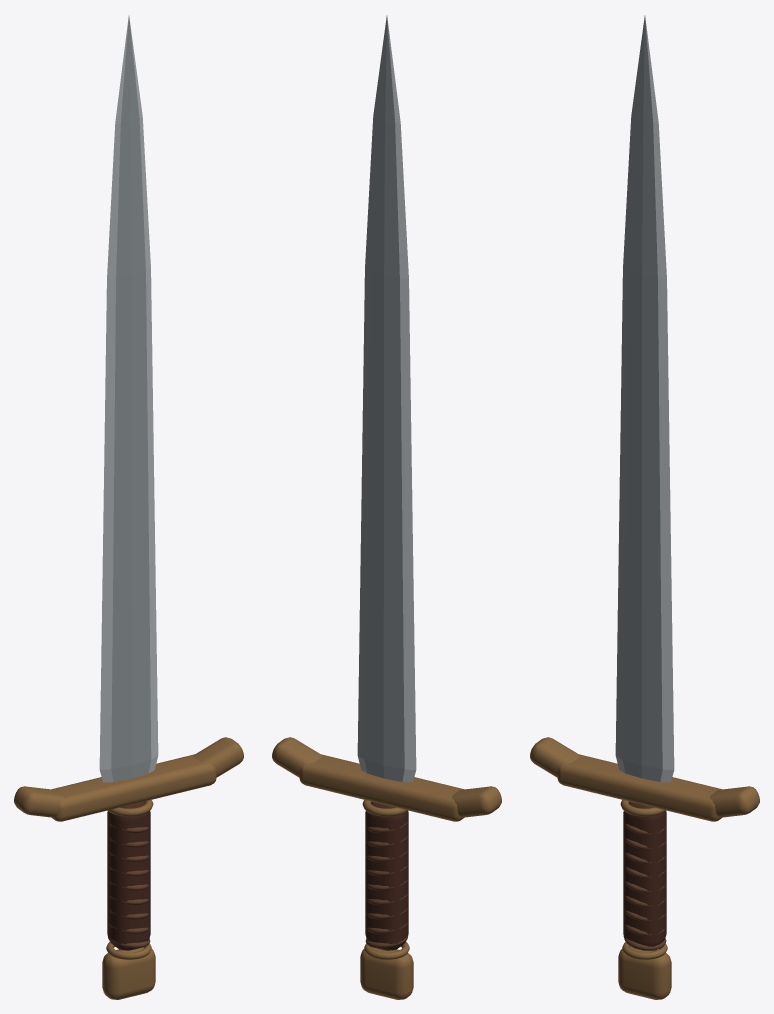
The model's file is valdris_recruit_sword.glb.
The picture shows the model from 3 angles, left to right: view 1: azimuth 30°, elevation 25°; view 2: azimuth 150°, elevation 25°; view 3: azimuth 330°, elevation 25°; orthographic projection.
Visible parts, largest first — view 1: Blade, Grip core, Centered crossguard, Wheel pommel, Swept quillon, Swept quillon.001; view 2: Blade, Grip core, Centered crossguard, Wheel pommel, Swept quillon, Swept quillon.001; view 3: Blade, Grip core, Centered crossguard, Wheel pommel, Swept quillon.001, Swept quillon.
Boxes of the visible parts, bbox=[...] form: Blade: bbox=[99, 15, 158, 782]; Grip core: bbox=[107, 801, 150, 950]; Centered crossguard: bbox=[52, 754, 216, 821]; Wheel pommel: bbox=[102, 947, 155, 999]; Swept quillon: bbox=[14, 786, 63, 817]; Swept quillon.001: bbox=[194, 737, 243, 777]; Blade: bbox=[357, 15, 416, 782]; Grip core: bbox=[365, 801, 408, 950]; Centered crossguard: bbox=[299, 754, 463, 821]; Wheel pommel: bbox=[360, 947, 413, 999]; Swept quillon: bbox=[452, 786, 501, 817]; Swept quillon.001: bbox=[272, 737, 321, 777]; Blade: bbox=[615, 15, 674, 782]; Grip core: bbox=[623, 801, 666, 950]; Centered crossguard: bbox=[557, 754, 721, 821]; Wheel pommel: bbox=[618, 946, 671, 999]; Swept quillon.001: bbox=[710, 786, 759, 817]; Swept quillon: bbox=[530, 737, 579, 777].
Bounding box in the file's own units: 0.2405 × 1.02 × 0.046.
